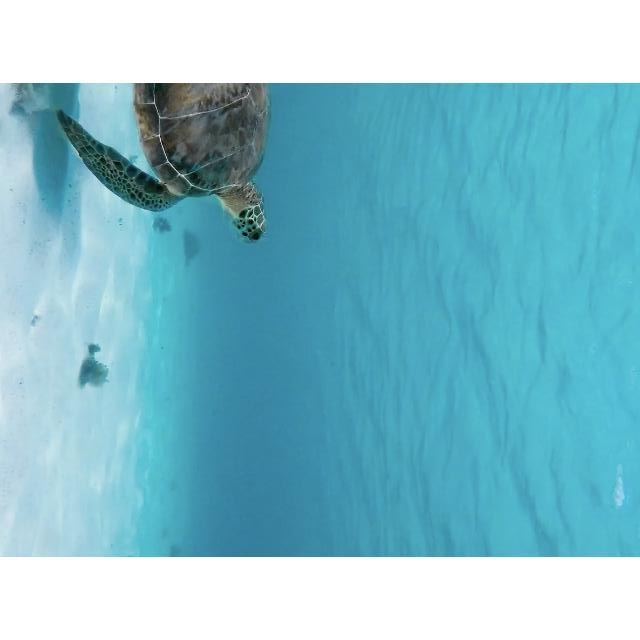turtle: (53, 84, 269, 244)
